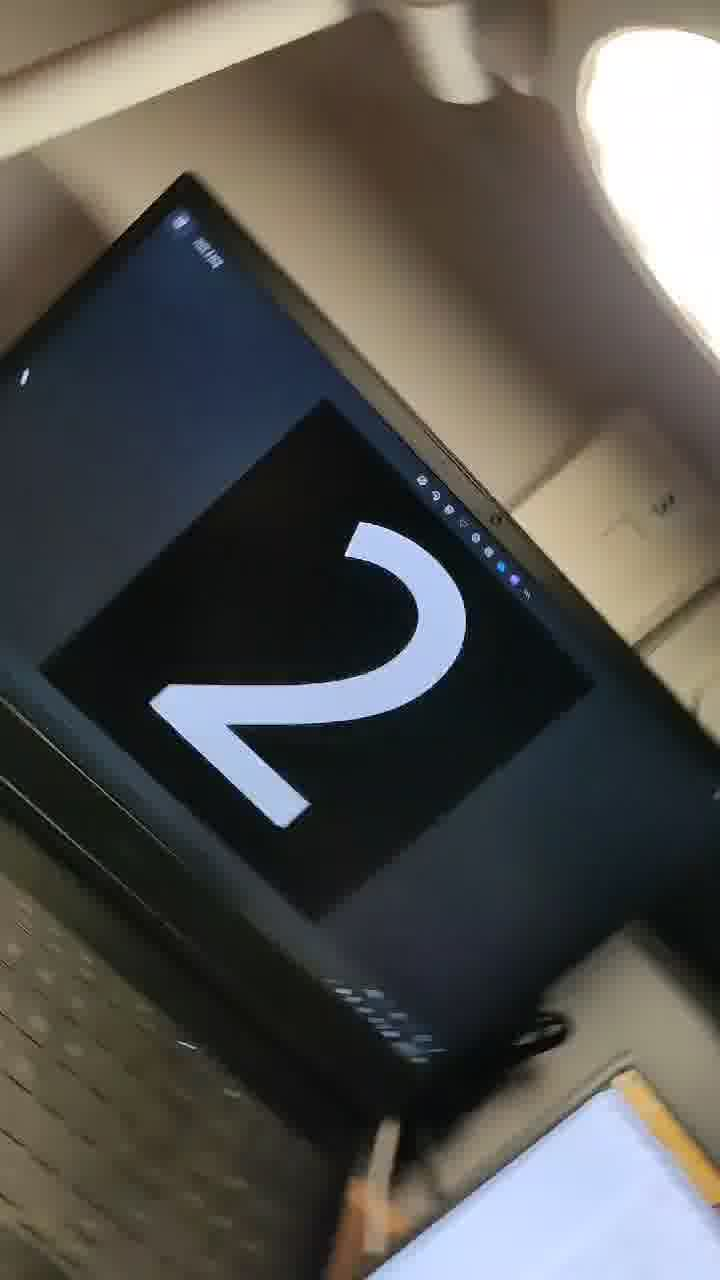two: (129, 471, 536, 941)
